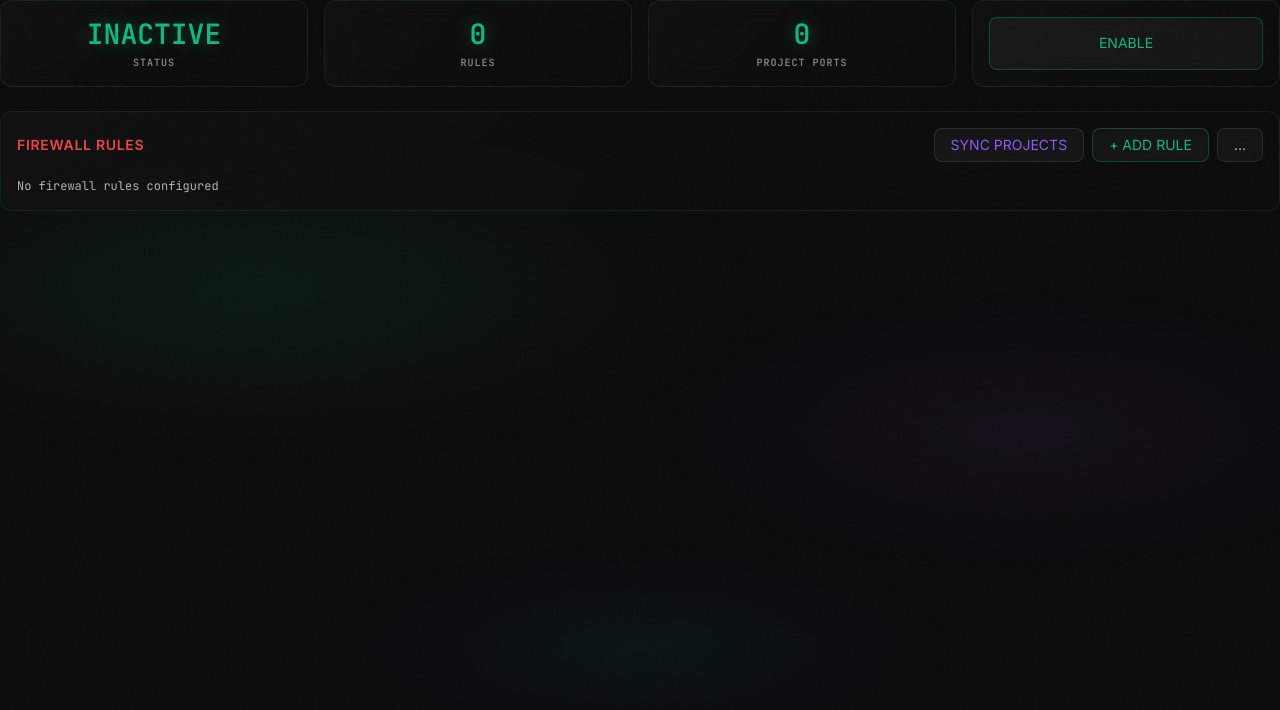
Scenario: FirewallPane › add rule form › should show form when add rule clicked
Click the button "+ ADD RULE".
click(1150, 145)  # box [1092,128,1209,162]
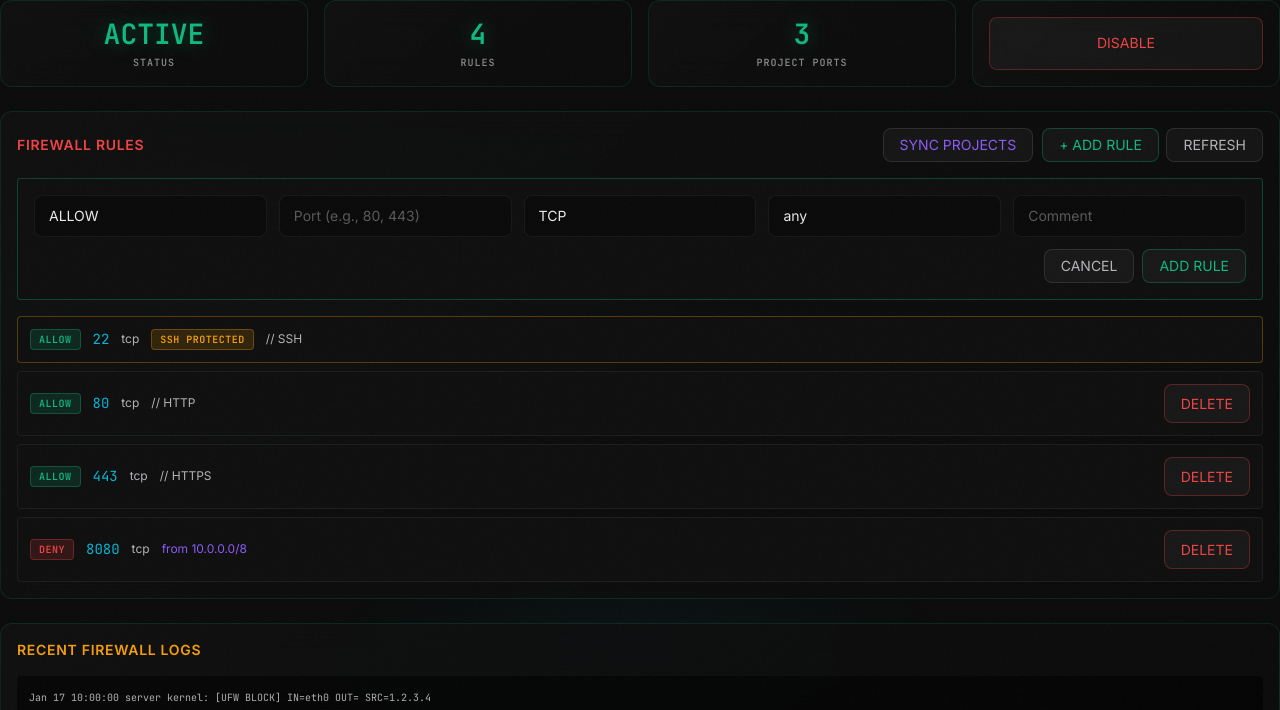
Expected: the field with placeholder "Port (e.g., 80, 443)" is shown, [279,195,512,237]
Expected: the field with placeholder "From (any or IP)" is shown, [768,195,1001,237]
Expected: the field with placeholder "Comment" is shown, [1013,195,1246,237]
